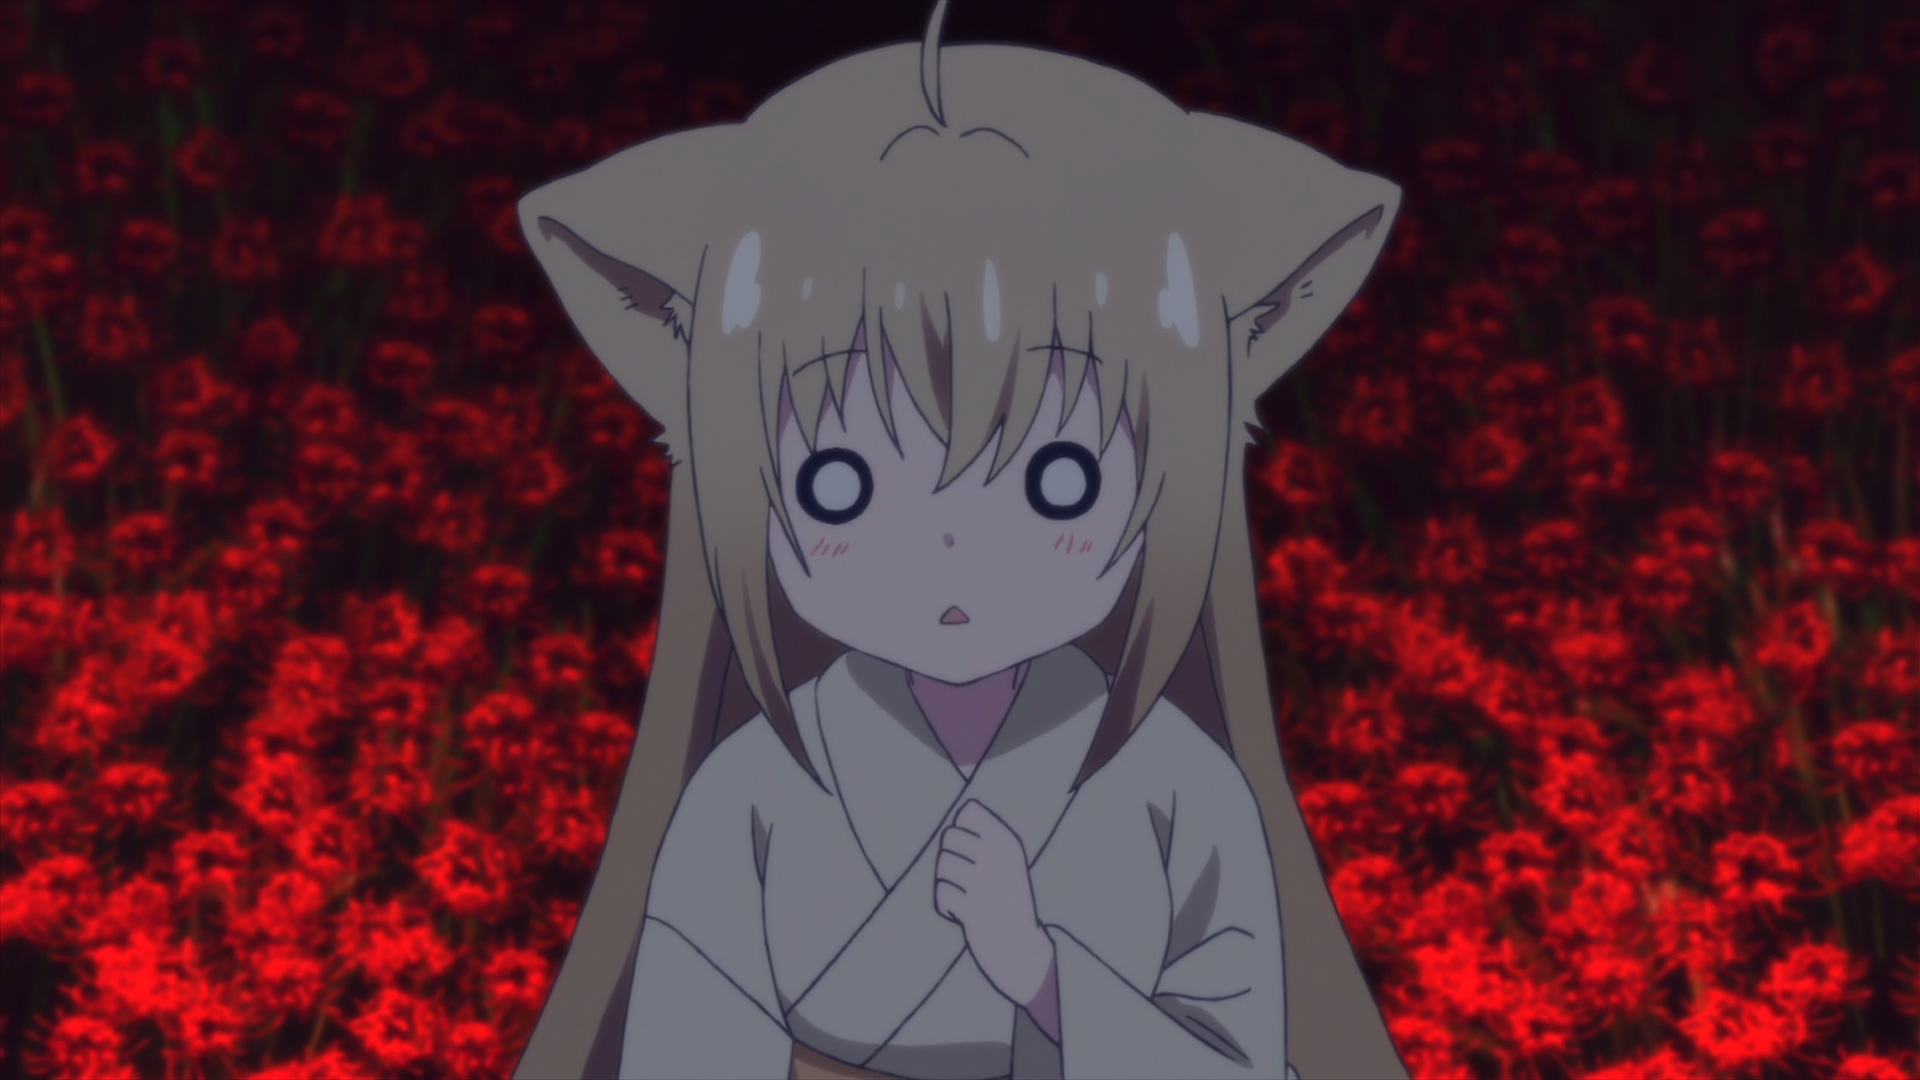柚: (514, 1, 1410, 1080)
